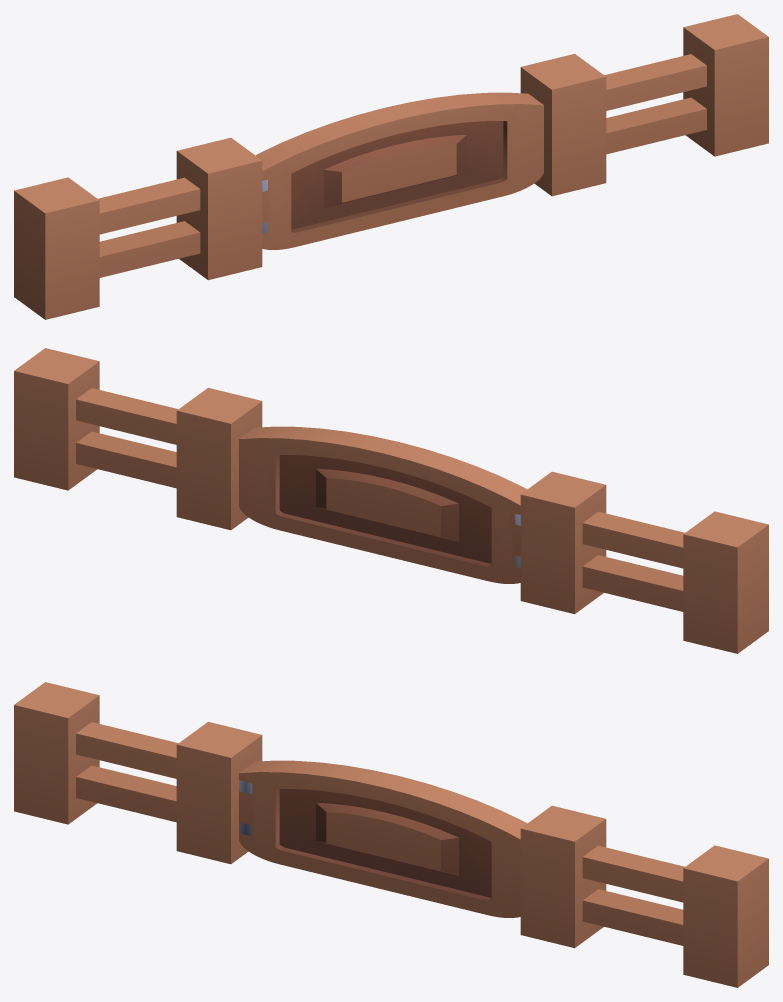
The model's file is fence-small-gate.glb.
3 renders of one model, top to bottom at view 1: azimuth 30°, elevation 25°; view 2: azimuth 150°, elevation 25°; view 3: azimuth 330°, elevation 25°, orthographic.
Parts seen in each view (by area): view 1: fence-gate, gate; view 2: fence-gate, gate; view 3: fence-gate, gate.
Part boxes in pixels (x1,y1,x2,y2): fence-gate: [14, 14, 768, 319]; gate: [256, 92, 543, 249]; fence-gate: [14, 348, 768, 653]; gate: [239, 426, 526, 583]; fence-gate: [14, 682, 768, 987]; gate: [239, 760, 526, 917].
Size of the model in its own units: 1 by 0.1406 by 0.075.
1 material, 1 textured.
